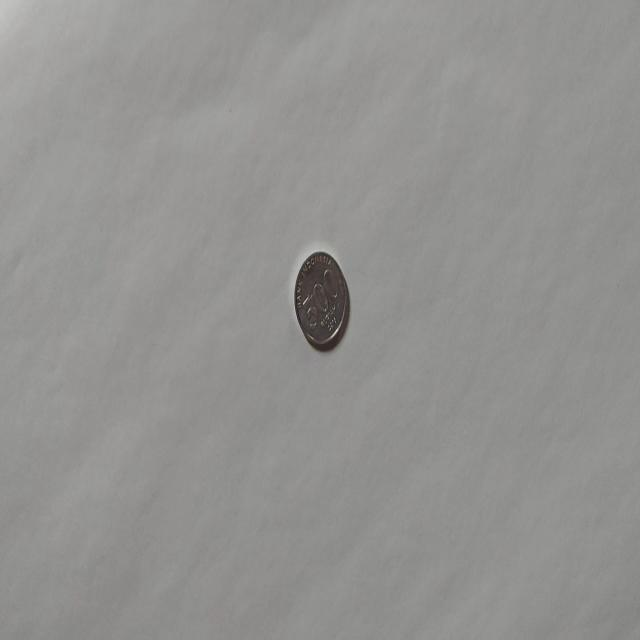lima ratus rupiah: (292, 248, 350, 350)
